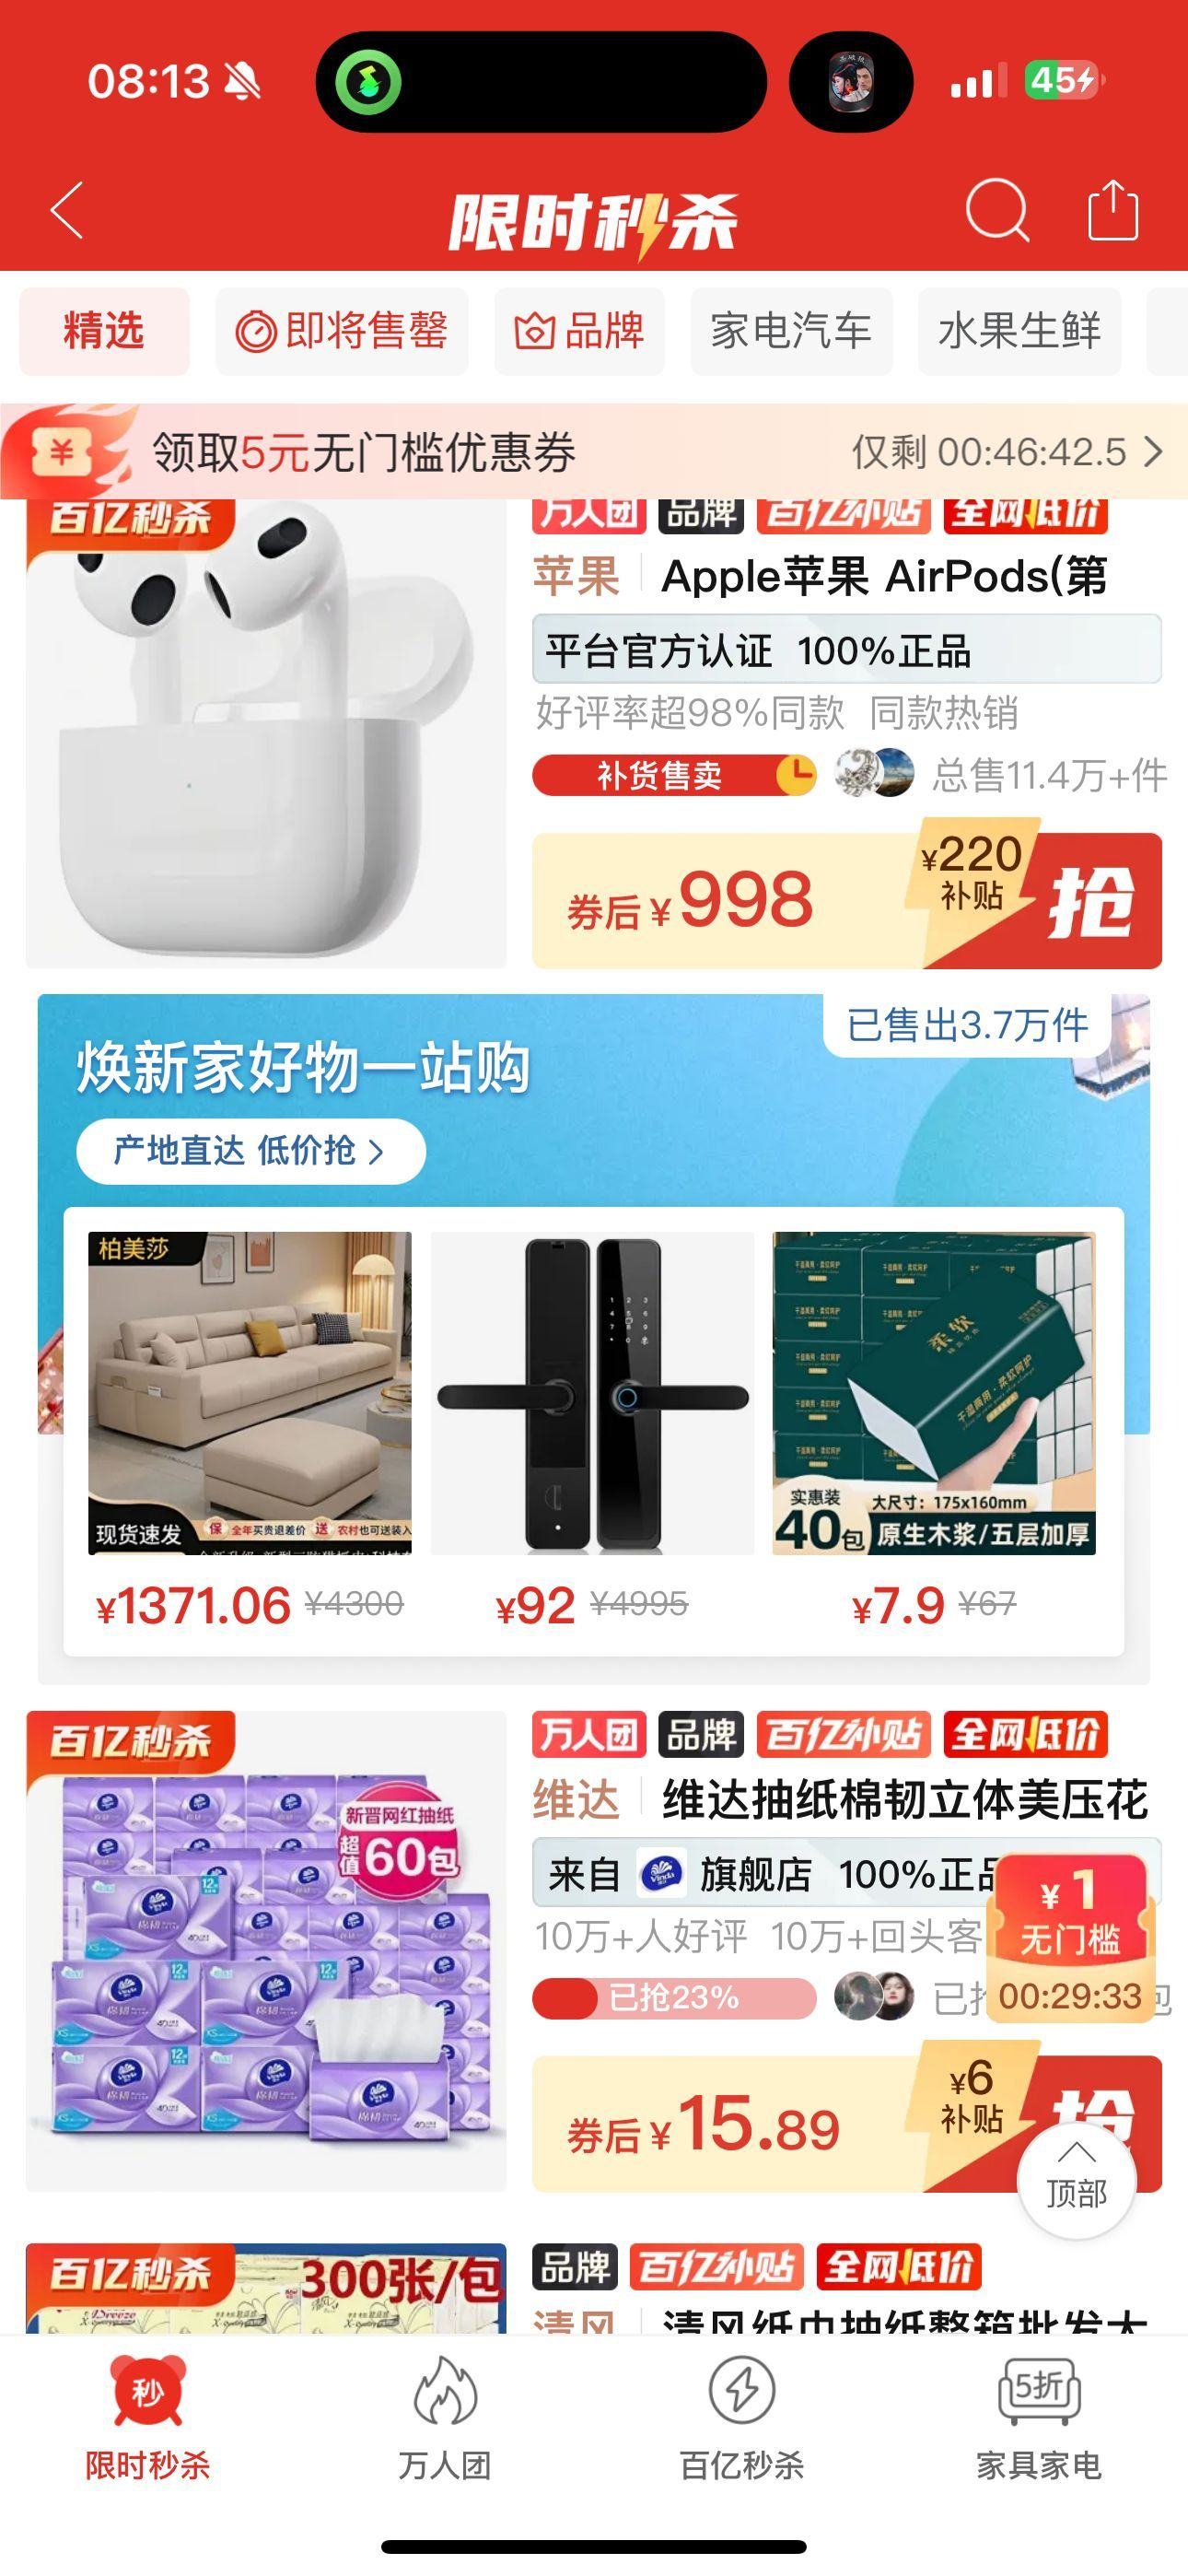banner: (16, 984, 1172, 1699), (3, 398, 1188, 504)
item: (10, 1709, 1183, 2224)
op_bar: (5, 149, 1188, 269)
